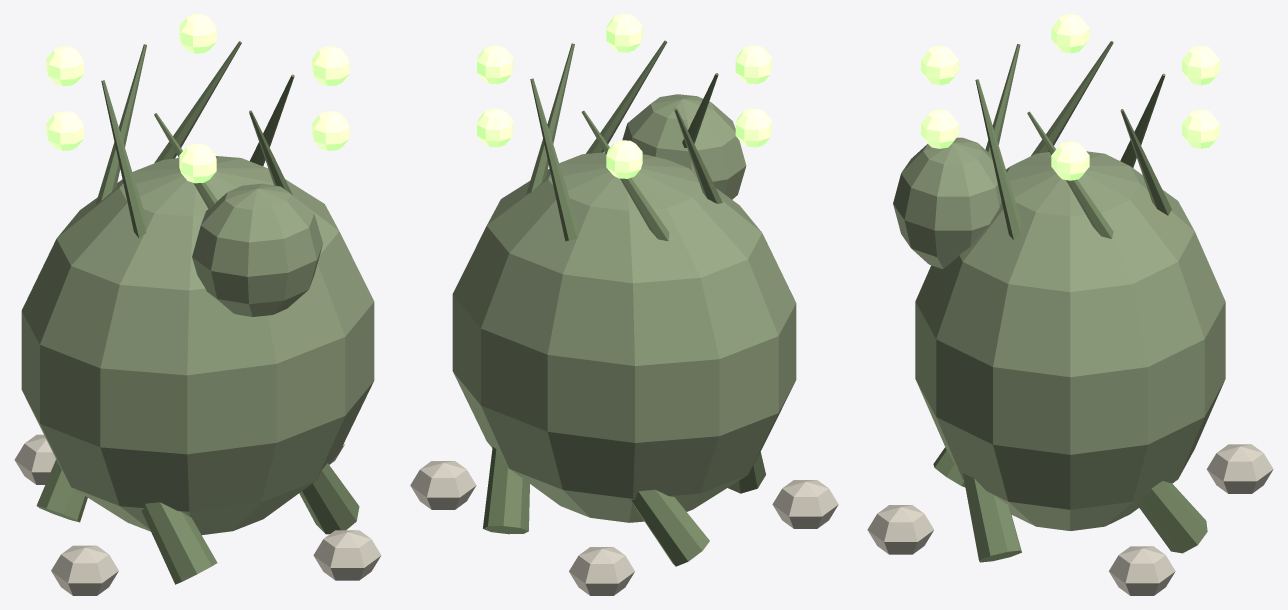
Rendered from boss_forest_matriarch.glb.
3 views of the same model, side by side, from view 1: azimuth 30°, elevation 25°; view 2: azimuth 150°, elevation 25°; view 3: azimuth 270°, elevation 25° (orthographic). The views are drawn at different scales.
Visible parts, largest first — view 1: boss_matr_belly, boss_matr_head, boss_matr_limb_2, boss_matr_claw_3, boss_matr_claw_2, boss_matr_limb_3, boss_matr_limb_1, boss_matr_tendril_3, boss_matr_tendril_2, boss_matr_claw_1, boss_matr_tendril_1, boss_matr_sac_1 (+8 smaller); view 2: boss_matr_belly, boss_matr_head, boss_matr_limb_1, boss_matr_limb_0, boss_matr_claw_0, boss_matr_claw_2, boss_matr_claw_1, boss_matr_tendril_1, boss_matr_tendril_0, boss_matr_tendril_2, boss_matr_sac_2, boss_matr_sac_3 (+8 smaller); view 3: boss_matr_belly, boss_matr_head, boss_matr_limb_0, boss_matr_limb_3, boss_matr_claw_0, boss_matr_claw_1, boss_matr_claw_3, boss_matr_tendril_5, boss_matr_sac_0, boss_matr_sac_3, boss_matr_sac_1, boss_matr_sac_5 (+8 smaller).
Part boxes in pixels (x1,y1,x2,y2): boss_matr_belly: [21, 156, 374, 534]; boss_matr_head: [192, 183, 322, 316]; boss_matr_limb_2: [141, 502, 217, 584]; boss_matr_claw_3: [313, 530, 381, 580]; boss_matr_claw_2: [51, 545, 118, 595]; boss_matr_limb_3: [299, 463, 359, 534]; boss_matr_limb_1: [36, 459, 87, 522]; boss_matr_tendril_3: [101, 80, 146, 238]; boss_matr_tendril_2: [95, 44, 146, 204]; boss_matr_claw_1: [14, 434, 55, 484]; boss_matr_tendril_1: [154, 41, 241, 163]; boss_matr_sac_1: [179, 14, 216, 53]; boss_matr_belly: [452, 152, 796, 522]; boss_matr_head: [622, 94, 746, 199]; boss_matr_limb_1: [631, 489, 709, 566]; boss_matr_limb_0: [483, 446, 529, 534]; boss_matr_claw_0: [410, 461, 476, 509]; boss_matr_claw_2: [772, 480, 838, 528]; boss_matr_claw_1: [569, 547, 634, 595]; boss_matr_tendril_1: [530, 78, 578, 241]; boss_matr_tendril_0: [526, 43, 574, 194]; boss_matr_tendril_2: [581, 110, 669, 241]; boss_matr_sac_2: [606, 140, 642, 178]; boss_matr_sac_3: [735, 108, 771, 147]; boss_matr_belly: [915, 151, 1225, 530]; boss_matr_head: [893, 137, 1001, 268]; boss_matr_limb_0: [1136, 481, 1207, 553]; boss_matr_limb_3: [963, 473, 1021, 562]; boss_matr_claw_0: [1109, 546, 1175, 595]; boss_matr_claw_1: [1206, 444, 1273, 493]; boss_matr_claw_3: [867, 505, 933, 554]; boss_matr_tendril_5: [975, 79, 1021, 240]; boss_matr_sac_0: [1051, 141, 1089, 180]; boss_matr_sac_3: [1051, 14, 1089, 53]; boss_matr_sac_1: [1182, 109, 1219, 148]; boss_matr_sac_5: [921, 109, 958, 148].
Size of the model in its own units: 2.37 by 2.94 by 2.43.
